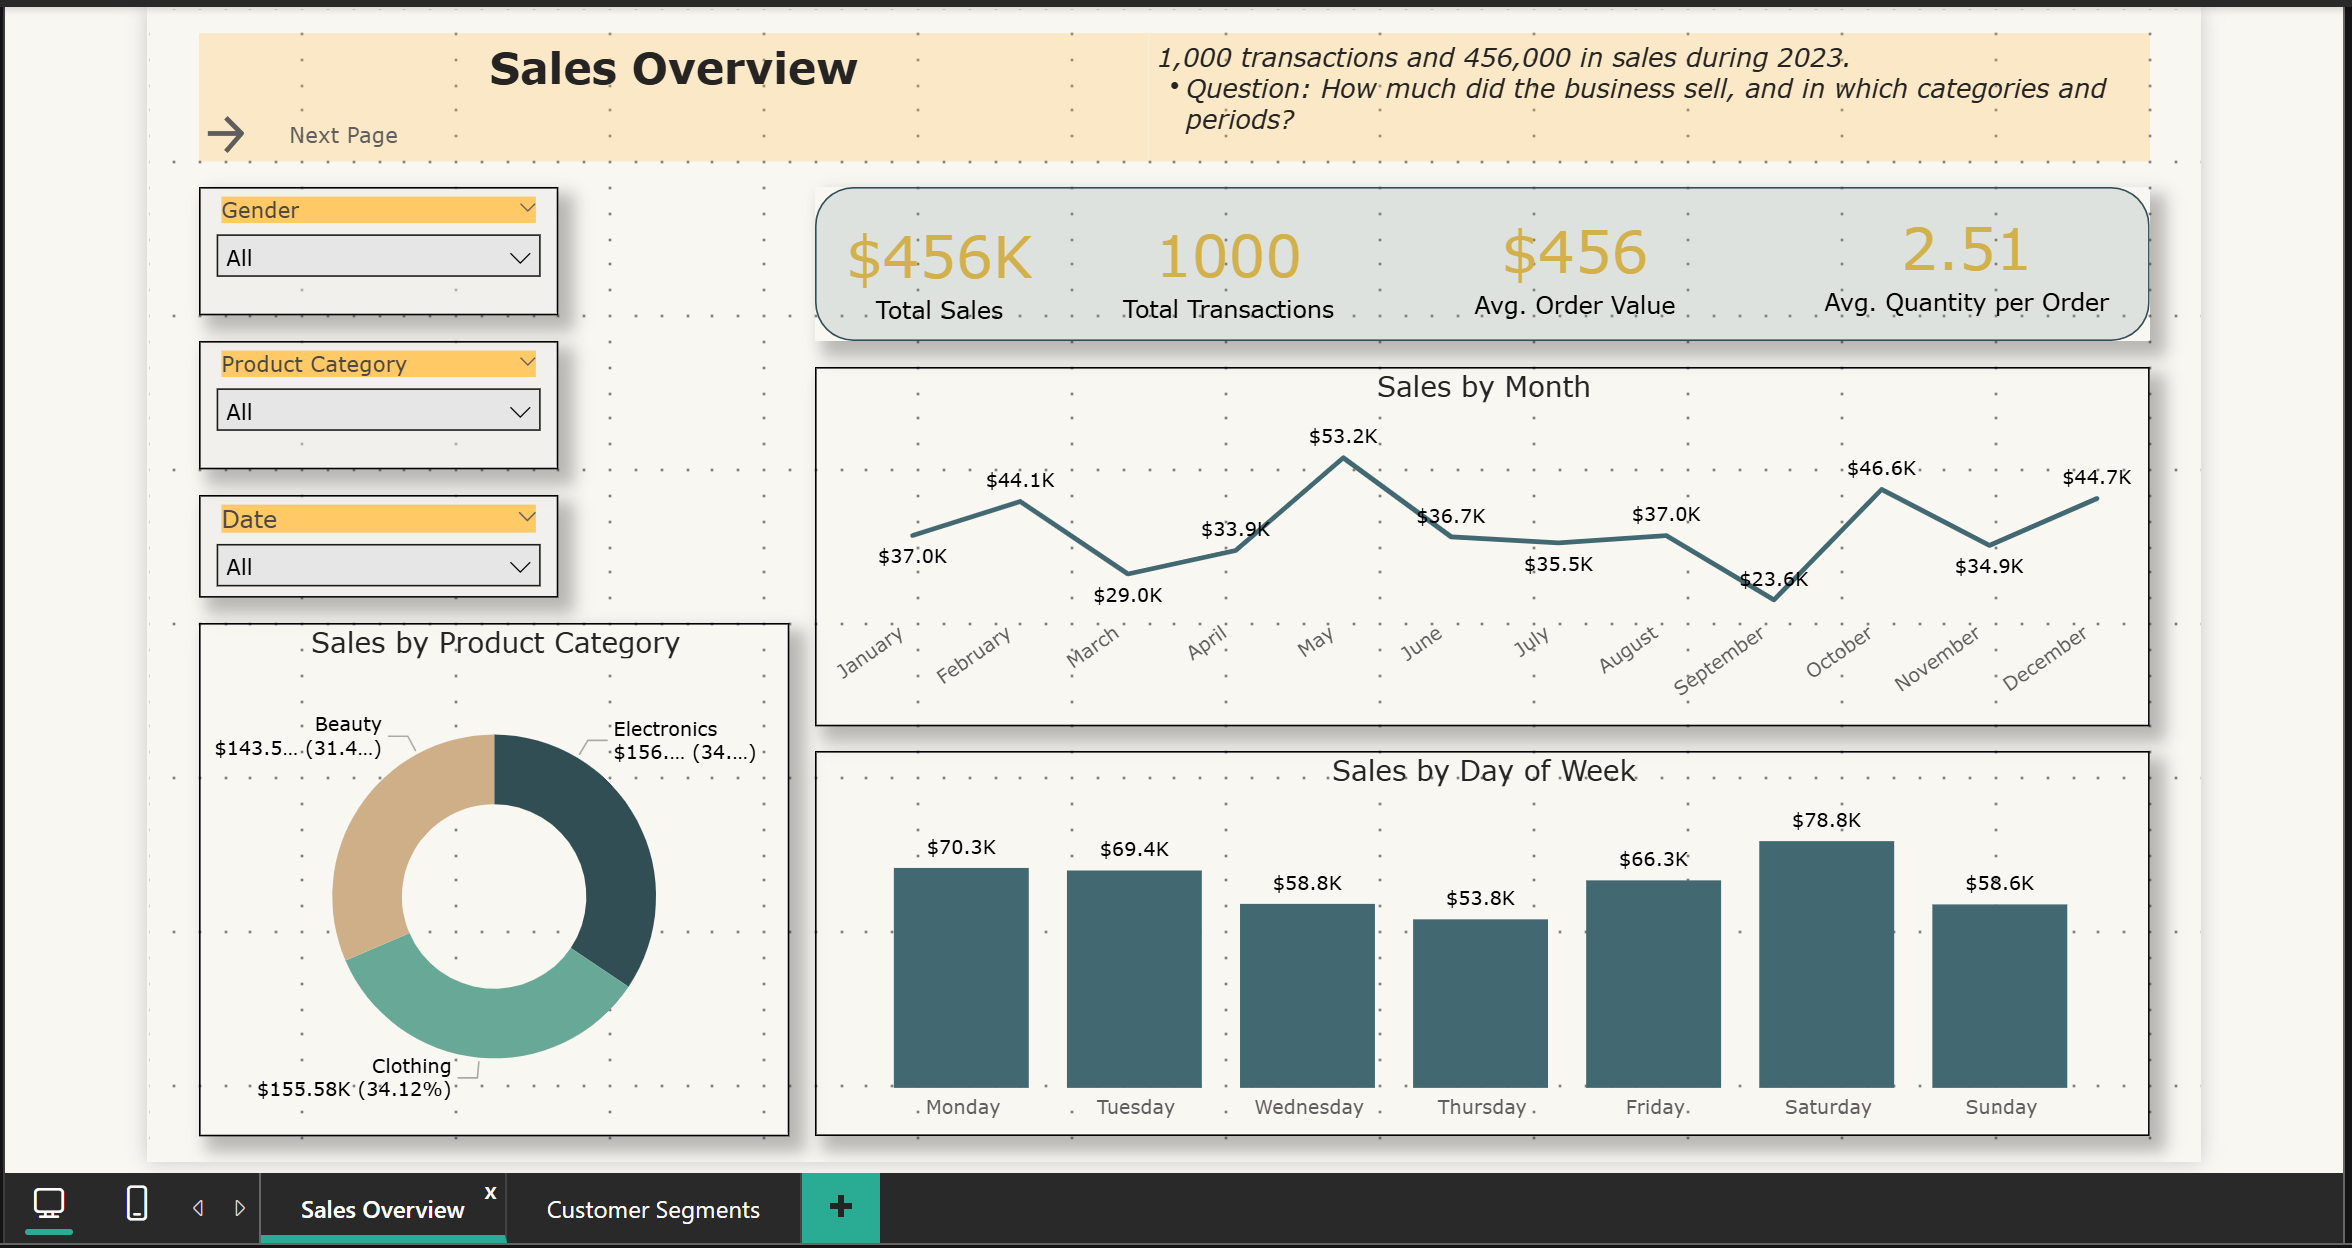

The page's visual inventory and layout, read from the dashboard file:
{"tool":"powerbi","page":{"name":"Sales Overview","canvas":[1280,720],"ordinal":0},"visuals":[{"type":"shape","box":[416,112,832,96],"z":0},{"type":"textbox","box":[32,16,592,80],"z":1000},{"type":"card","fields":{"Values":["Measures Table.Total Sales"]},"box":[416,115.6,155,95.3],"z":2000,"group":"g1"},{"type":"pieChart","title":"Sales by Product Category","fields":{"Category":["Retail_sales.Product Category"],"Y":["Measures Table.Total Sales"]},"box":[32,384,368,320],"z":2000},{"type":"lineChart","title":"Sales by Month","fields":{"Category":["Retail_sales.Date.Variation.Date Hierarchy.Month"],"Y":["Measures Table.Total Sales"]},"box":[416,224,832,224],"z":3000},{"type":"card","fields":{"Values":["Measures Table.AOV"]},"box":[786.3,112,206.7,96.5],"z":4000,"group":"g1"},{"type":"clusteredColumnChart","title":"Sales by Day of Week","fields":{"Y":["Measures Table.Total Sales"],"Category":["Retail_sales.Day Of Week"]},"box":[416,464,832,240],"z":4000},{"type":"slicer","fields":{"Values":["Retail_sales.Date.Variation.Date Hierarchy.Year","Retail_sales.Date.Variation.Date Hierarchy.Quarter","Retail_sales.Date.Variation.Date Hierarchy.Month","Retail_sales.Date.Variation.Date Hierarchy.Day"]},"box":[32,304,224,64],"z":5000},{"type":"slicer","fields":{"Values":["Retail_sales.Product Category"]},"box":[32,208,224,80],"z":6000},{"type":"actionButton","box":[32,64,128,32],"z":7000},{"type":"slicer","fields":{"Values":["Retail_sales.Gender"]},"box":[32,112,224,80],"z":8000},{"type":"group","id":"g1","title":"Group 1","box":[416,112,832,96],"z":9000},{"type":"textbox","box":[624,16,624,80],"z":10000},{"type":"card","fields":{"Values":["Measures Table.Avg. Quantity per Transaction"]},"box":[1022.4,112,223.9,92.9],"z":10000,"group":"g1"},{"type":"card","fields":{"Values":["Measures Table.Total Transactions"]},"box":[601.7,116.8,143.9,91.7],"z":15000,"group":"g1"}]}

Visuals, with their boxes on the page's 1280x720 design canvas (x1, y1, x2, y2). These are canvas units, not pixel positions in the 2352x1248 screenshot, which may show the page scaled, cropped or inside an application window:
shape: bbox=(416, 112, 1248, 208)
textbox: bbox=(32, 16, 624, 96)
card - Measures Table.Total Sales: bbox=(416, 116, 571, 211)
"Sales by Product Category" pieChart: bbox=(32, 384, 400, 704)
"Sales by Month" lineChart: bbox=(416, 224, 1248, 448)
card - Measures Table.AOV: bbox=(786, 112, 993, 208)
"Sales by Day of Week" clusteredColumnChart: bbox=(416, 464, 1248, 704)
slicer - Retail_sales.Date.Variation.Date Hierarchy.Year x Retail_sales.Date.Variation.Date Hierarchy.Quarter: bbox=(32, 304, 256, 368)
slicer - Retail_sales.Product Category: bbox=(32, 208, 256, 288)
actionButton: bbox=(32, 64, 160, 96)
slicer - Retail_sales.Gender: bbox=(32, 112, 256, 192)
"Group 1" group: bbox=(416, 112, 1248, 208)
textbox: bbox=(624, 16, 1248, 96)
card - Measures Table.Avg. Quantity per Transaction: bbox=(1022, 112, 1246, 205)
card - Measures Table.Total Transactions: bbox=(602, 117, 746, 208)
